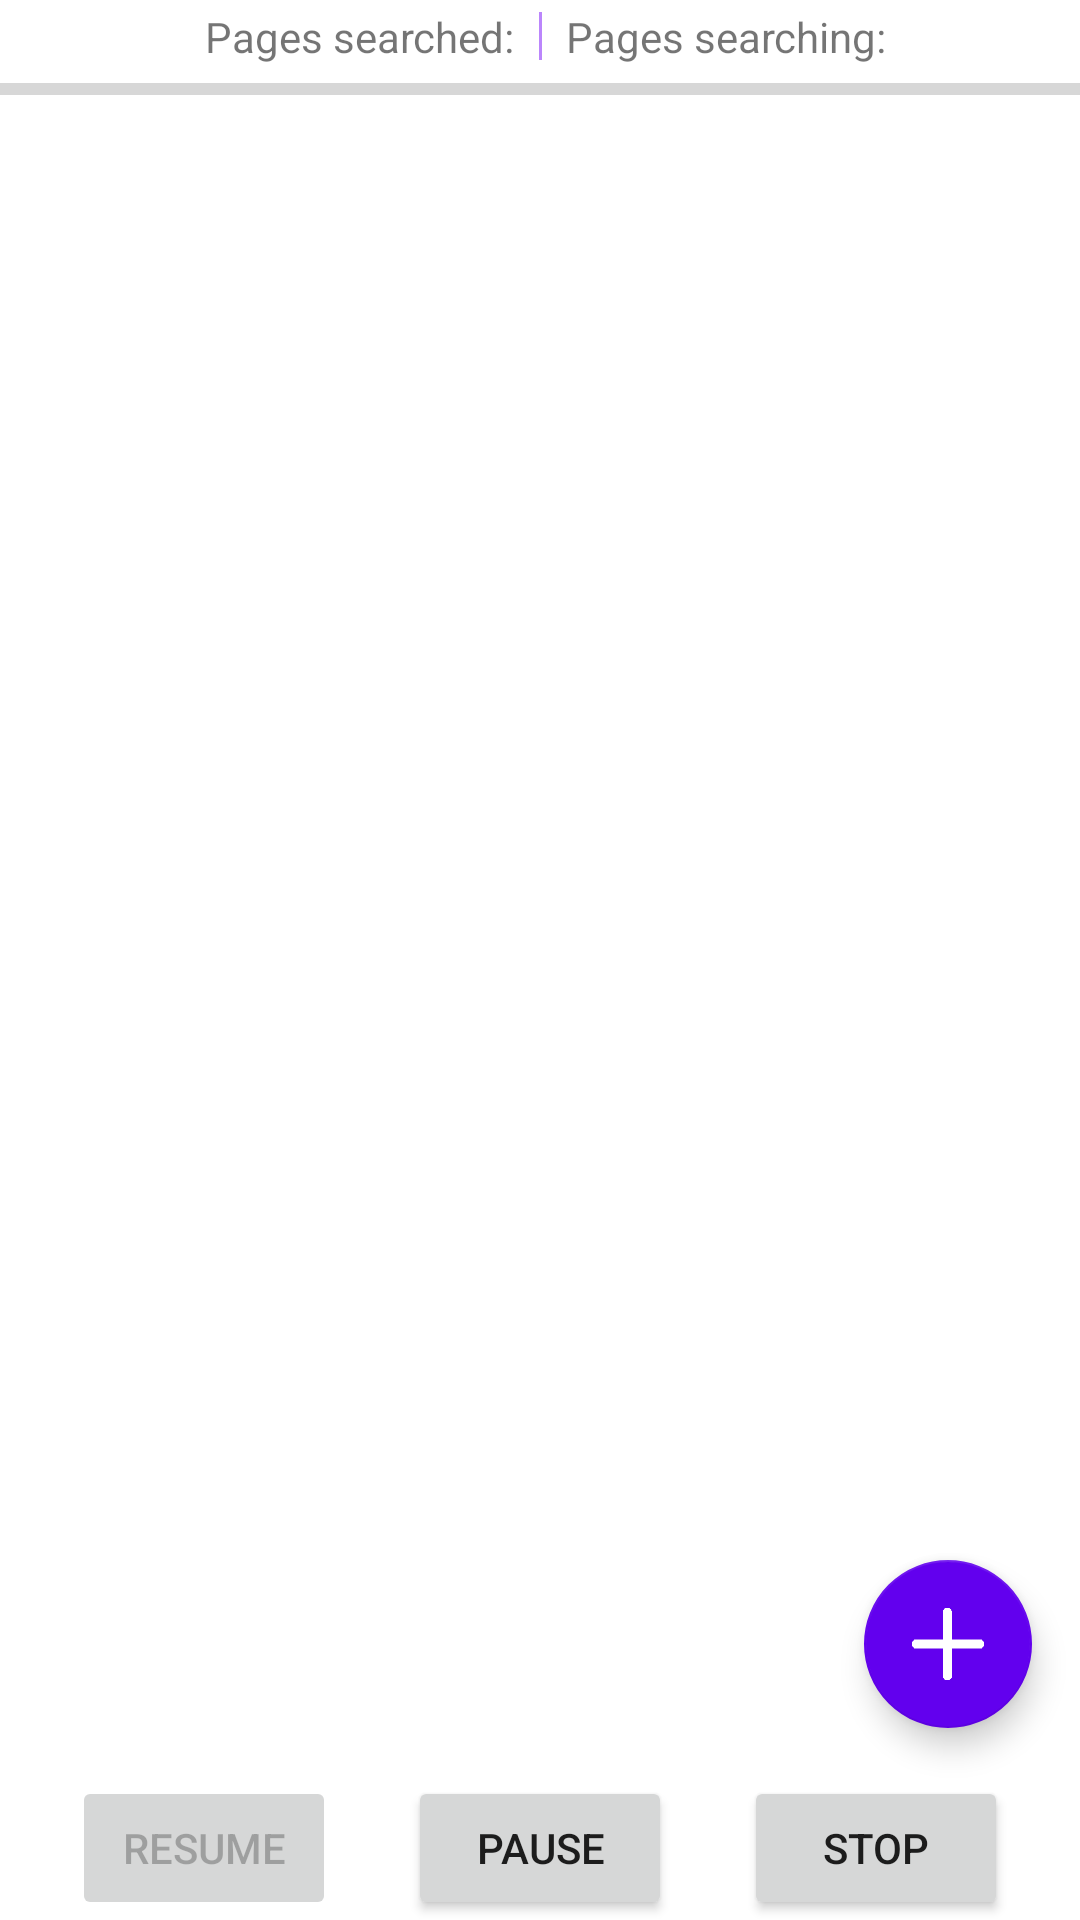

Where to tap for icons on this 1080 x 1920 app screen, as [x,y]:
new search button: [948,1644]
